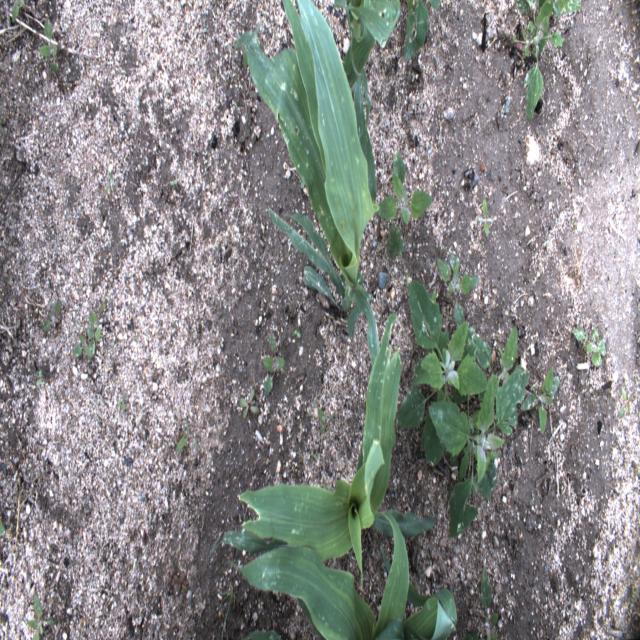crop: (233, 0, 379, 366), (238, 315, 435, 586), (207, 514, 458, 639), (332, 0, 402, 81), (242, 627, 281, 639)
weed: (397, 279, 487, 467), (435, 365, 529, 539), (509, 0, 581, 121), (375, 150, 433, 258), (479, 329, 519, 396), (520, 369, 560, 435), (463, 568, 499, 639), (404, 1, 441, 61), (73, 298, 108, 358), (435, 254, 477, 298), (262, 328, 286, 396), (26, 592, 59, 639), (574, 324, 606, 366), (38, 16, 59, 72), (175, 415, 201, 453), (219, 588, 234, 639), (238, 388, 259, 420), (42, 301, 62, 332), (316, 406, 337, 434), (619, 384, 633, 416), (11, 0, 27, 24), (482, 195, 488, 239), (307, 395, 318, 417), (119, 389, 128, 412), (36, 369, 42, 389), (298, 177, 306, 191), (0, 516, 5, 537), (630, 589, 636, 605), (169, 178, 178, 188), (293, 328, 301, 339), (109, 164, 114, 181), (310, 451, 318, 460)
